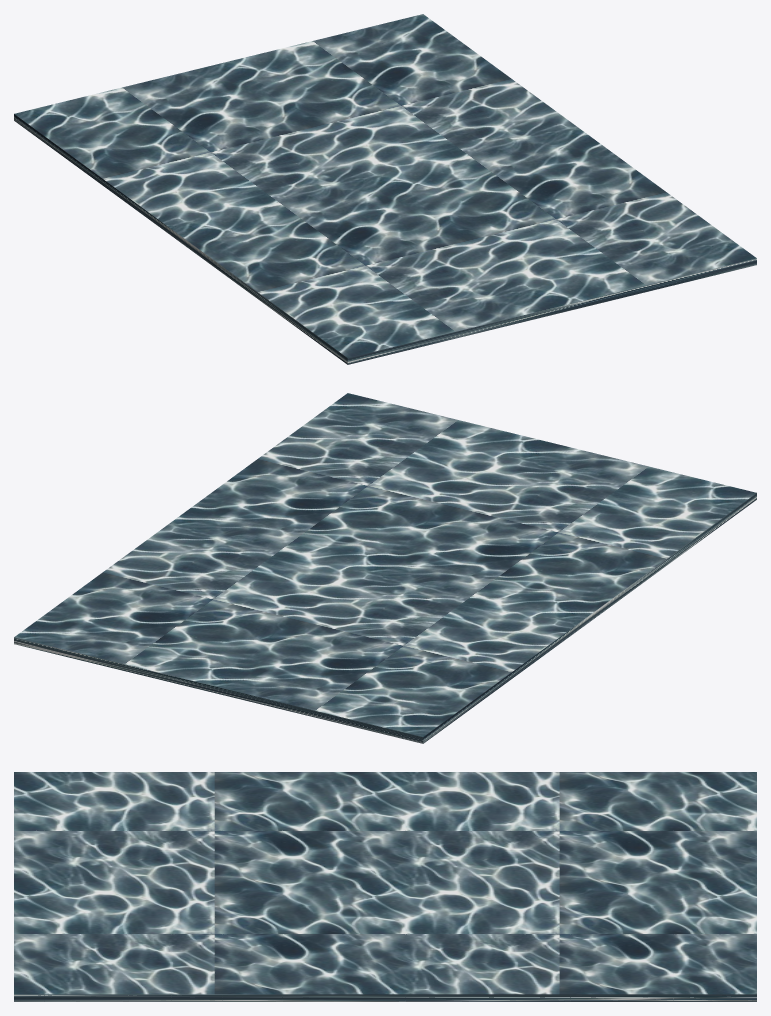
File: agua_alberca.obj
3 views of the same model, one above another, from view 1: azimuth 30°, elevation 25°; view 2: azimuth 150°, elevation 25°; view 3: azimuth 270°, elevation 25° (orthographic). The views are drawn at different scales.
Parts seen in each view (by area): view 1: AguaBase:Aguafuente; view 2: AguaBase:Aguafuente; view 3: AguaBase:Aguafuente.
Part boxes in pixels (<box>): AguaBase:Aguafuente: <box>14,14,756,364</box>; AguaBase:Aguafuente: <box>14,393,756,743</box>; AguaBase:Aguafuente: <box>14,772,756,1001</box>.
Size of the model in its own units: 17.11 by 0.2712 by 24.17.
Materials: 1 (1 with a texture image).
